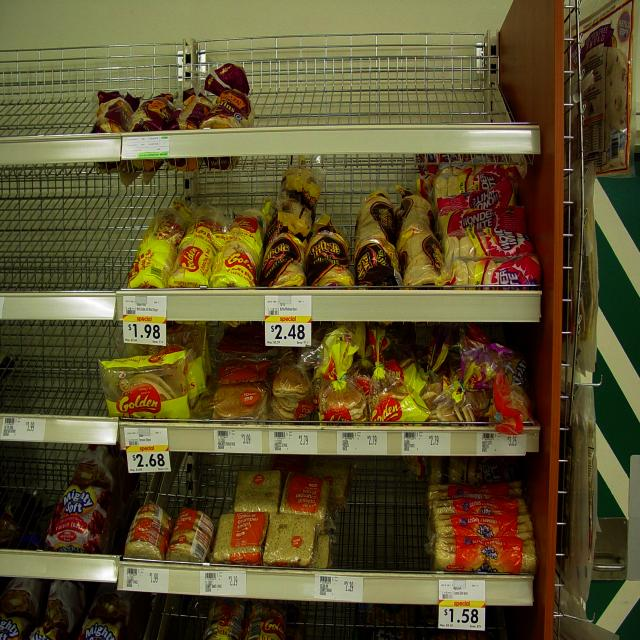empty_space: (255, 23, 513, 115), (6, 179, 126, 278), (9, 324, 102, 401), (1, 45, 87, 122), (353, 474, 421, 558), (7, 449, 45, 543), (302, 611, 418, 640), (153, 476, 231, 502), (158, 599, 198, 637)
